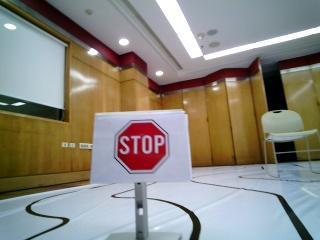stop: (103, 113, 180, 180)
